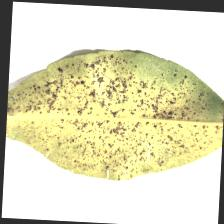canker: (55, 80, 184, 156)
